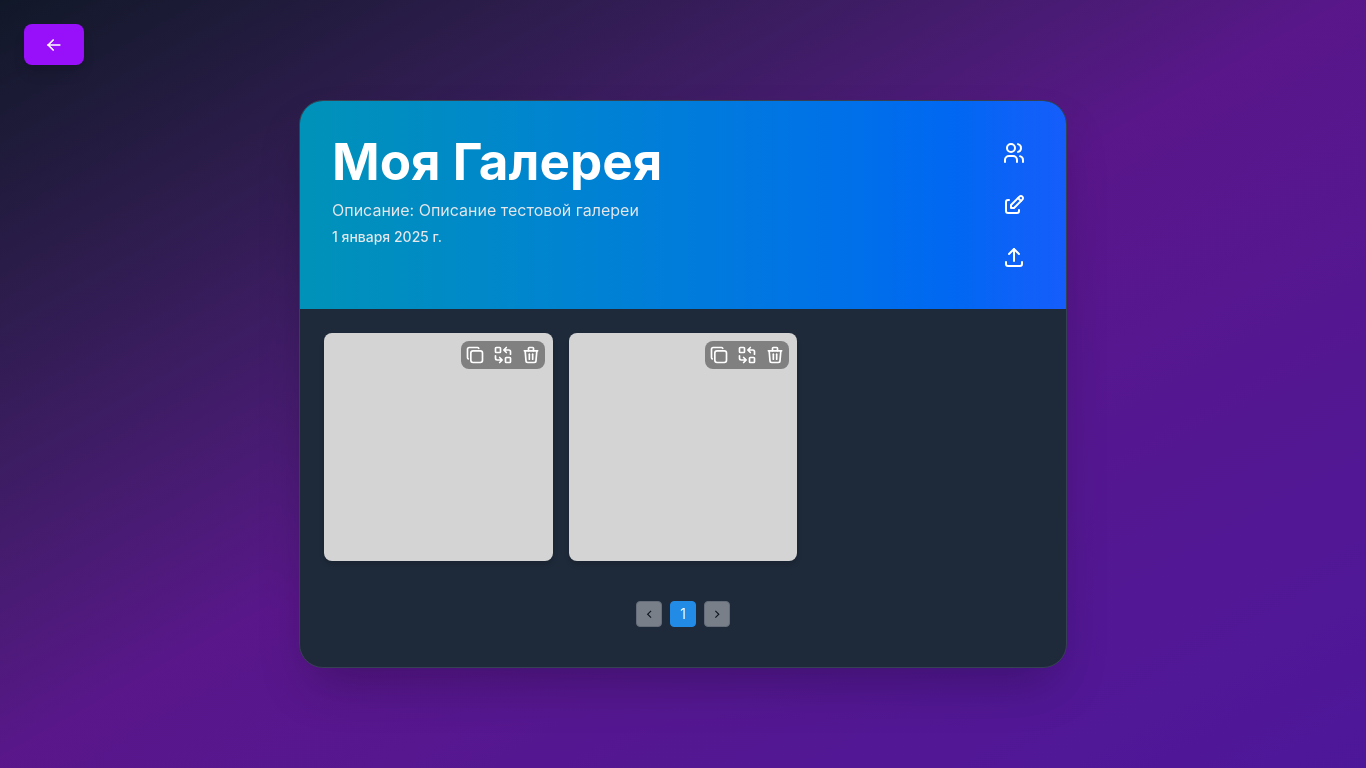
Scenario: DetailsGallery Page Coverage › должен открывать модальное окно удаления
Check: the heading "Моя Галерея" is shown, box [332,130,662,192]
Click the 1st icon with class "tabler-icon-trash": (531, 355) [521,345,541,365]
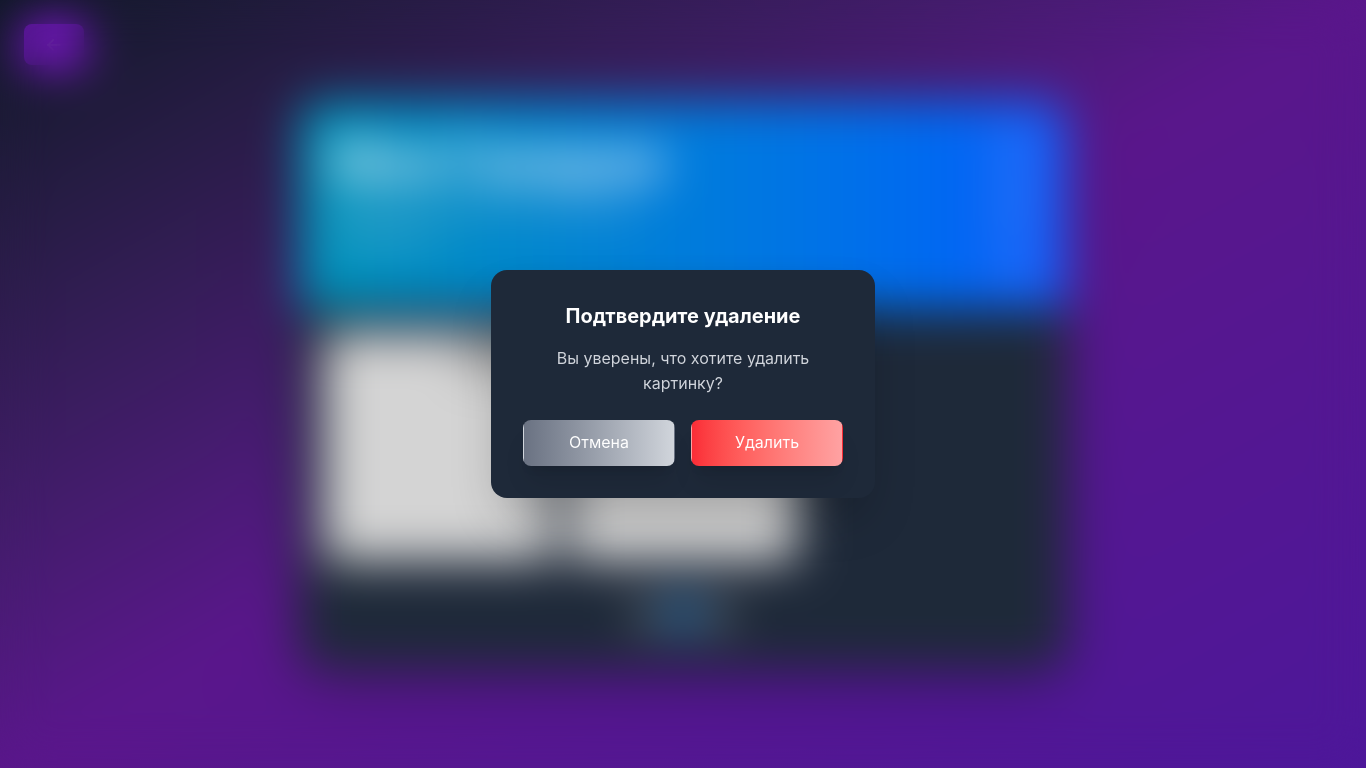
Check: the heading "Подтвердите удаление" is shown, box [566,304,800,328]
